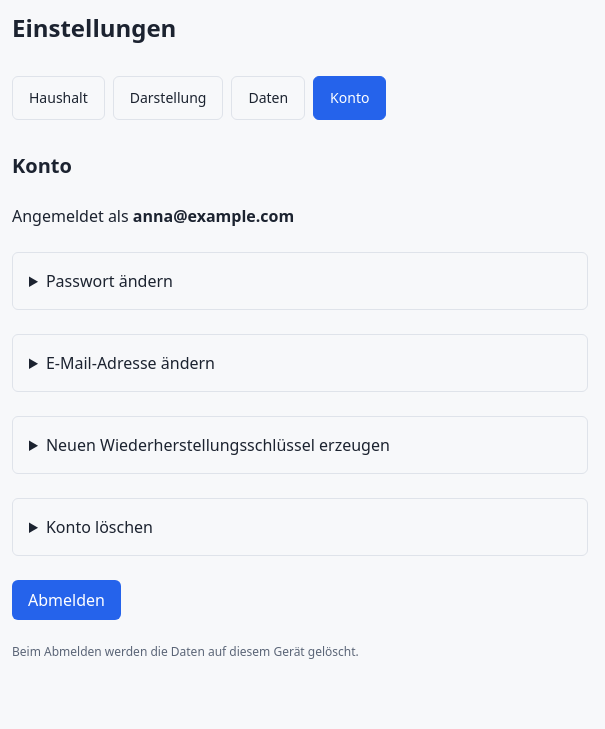
Test: Einstellungen: Passwort und E-Mail (Issue #187, #188) › AK-3: neues gleich aktuellem ändert nichts
The width and height of the screenshot is (605, 729).
Expected: the heading "Konto" is shown, [12,152,72,179]
Step 1. Click the heading "Passwort ändern" → (109, 281), box [46,270,173,292]
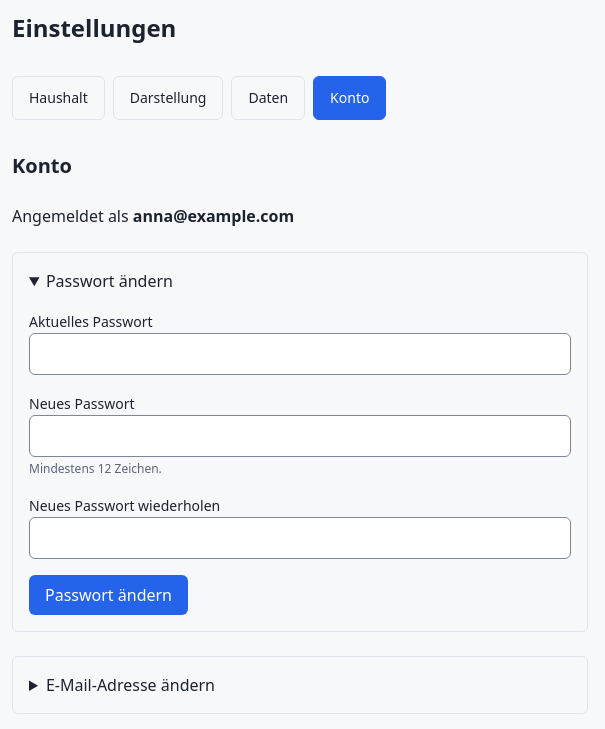
Step 2. Type "Gleiches-Passwort-123" into the password field labelled "Aktuelles Passwort" → (300, 354), box [29,333,571,375]
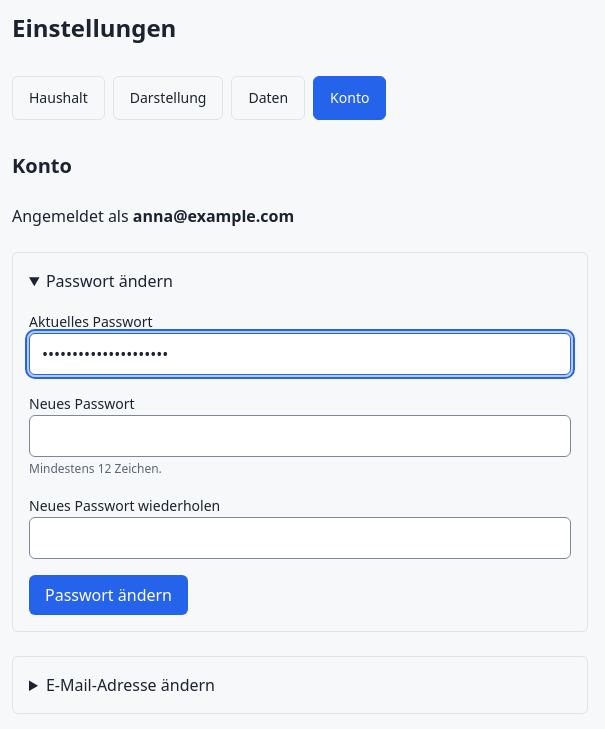
Step 3. Type "Gleiches-Passwort-123" into the password field labelled "Neues Passwort" → (300, 436), box [29,415,571,457]
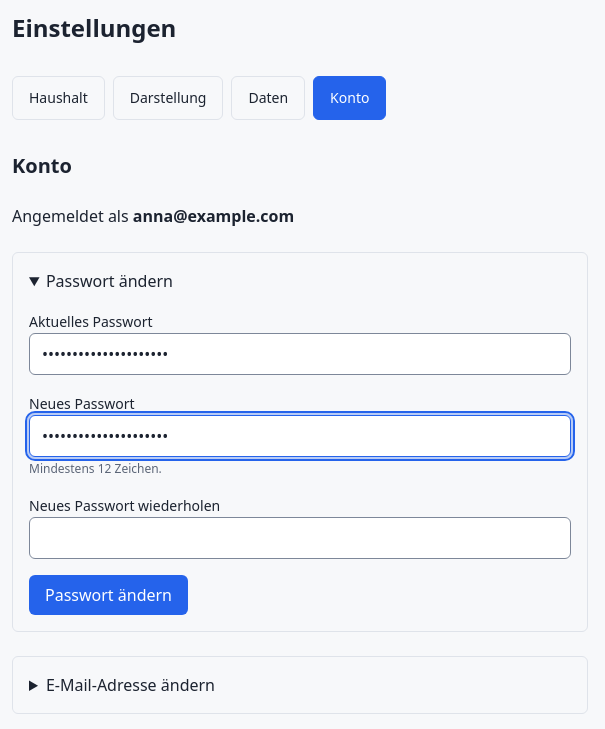
Step 4. Type "Gleiches-Passwort-123" into the password field labelled "Neues Passwort wiederholen" → (300, 538), box [29,517,571,559]
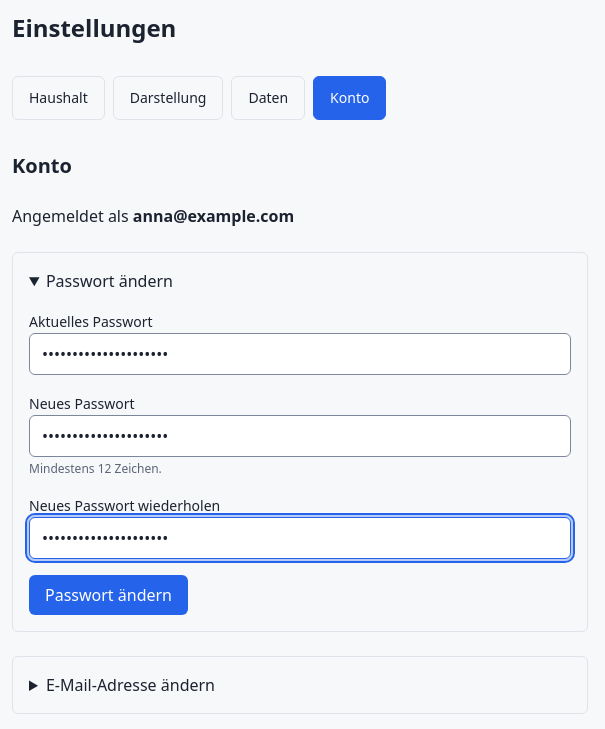
Step 5. Click the button "Passwort ändern" → (108, 595), box [29,575,188,615]
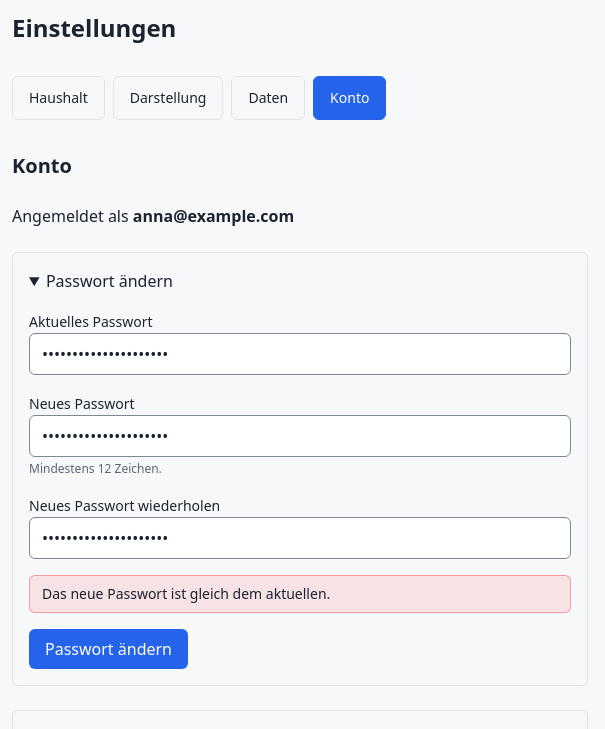
Result: the message reads "Das neue Passwort ist gleich dem aktuellen." at [42,584,330,603]
